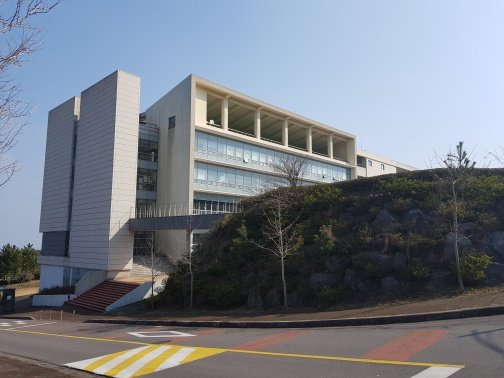Engineering College Building 4: (42, 70, 163, 312), (43, 104, 360, 185), (55, 90, 208, 231)
